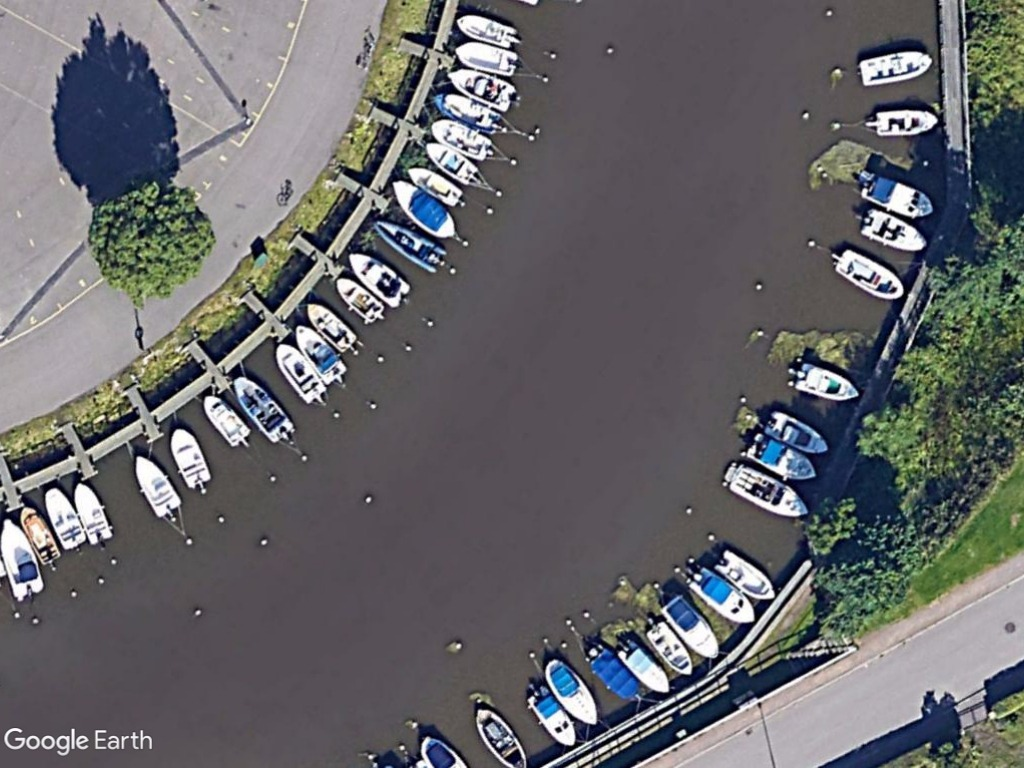boat: (720, 462, 810, 520), (685, 561, 763, 627), (369, 216, 451, 275), (830, 244, 910, 304), (387, 175, 462, 239), (520, 677, 582, 754), (657, 593, 725, 663), (231, 371, 296, 442), (541, 652, 601, 726), (341, 247, 413, 308), (743, 428, 819, 485), (710, 545, 780, 606), (611, 636, 676, 701), (270, 340, 332, 407), (856, 169, 936, 220), (130, 449, 186, 521), (0, 514, 45, 602), (759, 405, 833, 458), (291, 322, 353, 385), (583, 640, 644, 704), (470, 704, 528, 768), (443, 67, 520, 115), (425, 115, 500, 164), (859, 201, 930, 252), (65, 477, 116, 548), (430, 88, 503, 137), (642, 614, 697, 679), (786, 357, 862, 404), (301, 297, 362, 355), (39, 478, 85, 554), (854, 48, 935, 91), (417, 135, 482, 188), (165, 423, 214, 492), (198, 391, 252, 448), (15, 500, 62, 565), (333, 273, 387, 328), (449, 39, 519, 80), (403, 160, 464, 206), (453, 12, 520, 50), (870, 107, 940, 140)
